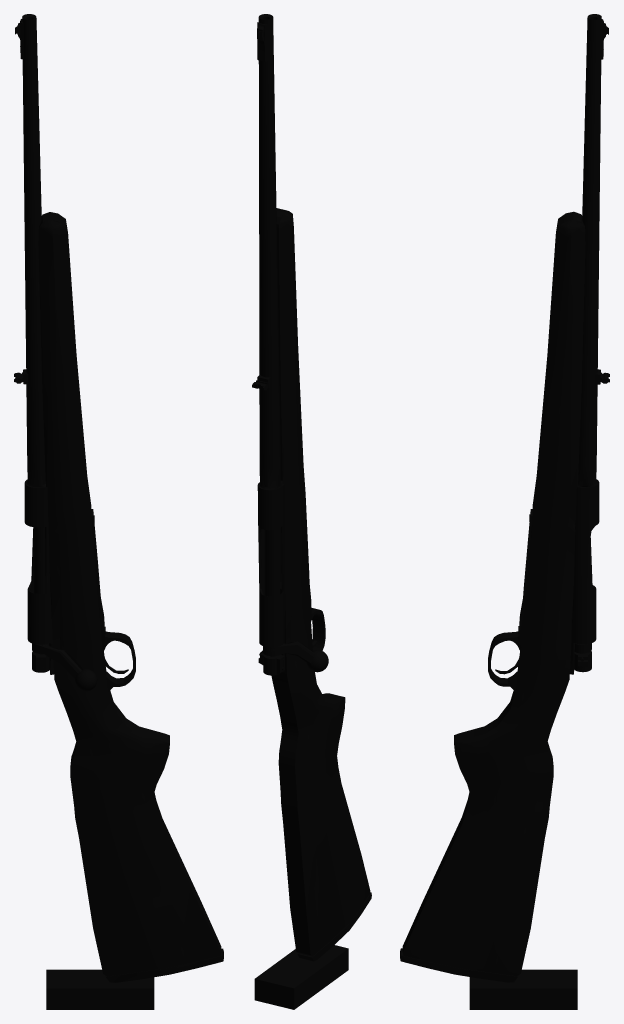
Rendered from Win70__RecoilPad_Rubber.fbx.
3 views of the same model, side by side, from view 1: azimuth 90°, elevation 25°; view 2: azimuth 150°, elevation 25°; view 3: azimuth 270°, elevation 25° (orthographic).
Visible parts, largest first — view 1: asset_Win70.001; view 2: asset_Win70.001; view 3: asset_Win70.001.
Boxes of the visible parts, x1,y1,x2,y2 form: asset_Win70.001: (14, 14, 223, 1009); asset_Win70.001: (252, 14, 371, 1009); asset_Win70.001: (400, 14, 609, 1009).
Size of the model in its own units: 0.0382 by 0.693 by 0.134.
